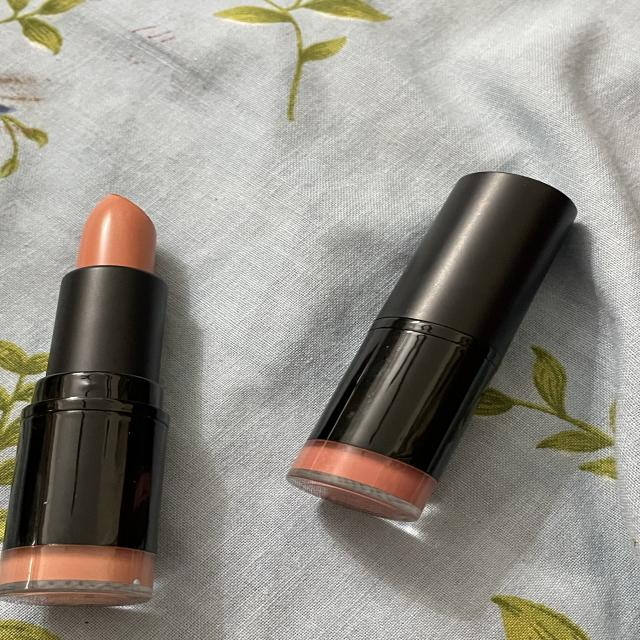lip stick: (272, 132, 602, 593), (0, 161, 204, 610)
